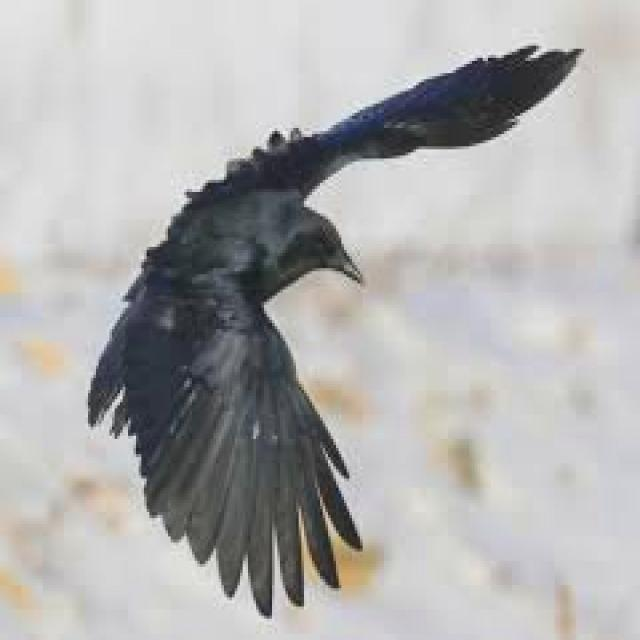crow: (91, 46, 581, 613)
